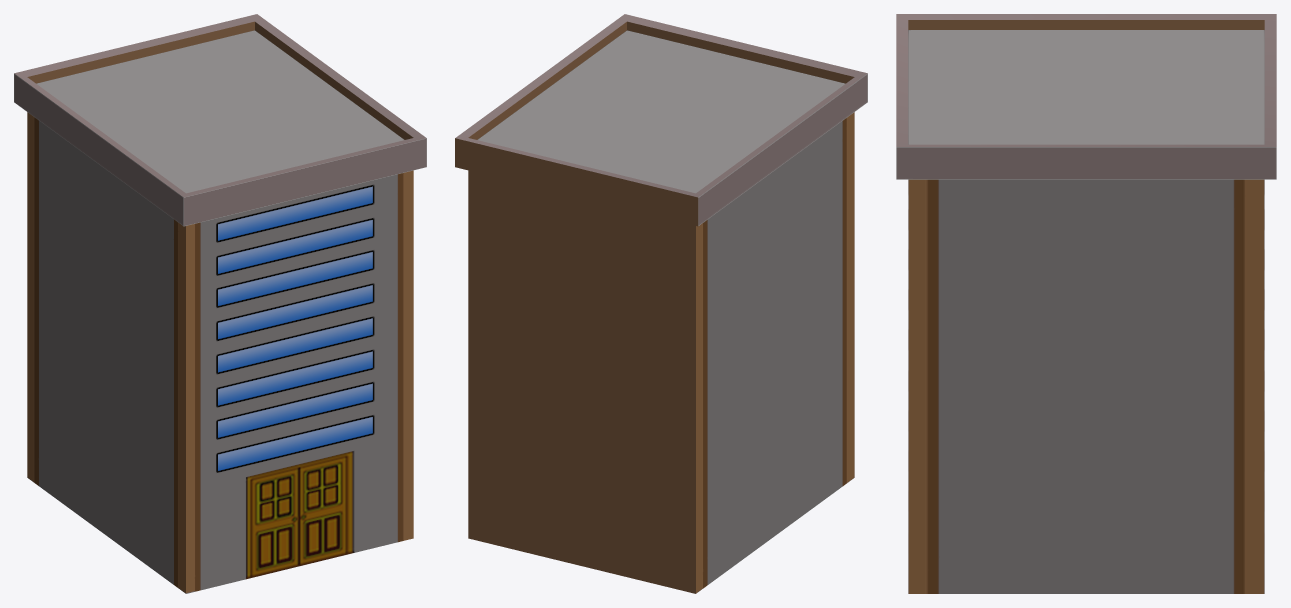
Rendered from Building3 another version.fbx.
3 renders of one model, left to right at view 1: azimuth 30°, elevation 25°; view 2: azimuth 150°, elevation 25°; view 3: azimuth 270°, elevation 25°, orthographic. The views are drawn at different scales.
Parts seen in each view (by area): view 1: Building_8; view 2: Building_8; view 3: Building_8.
Part boxes in pixels (box(x1,y1,x2,y2)): Building_8: box(14, 14, 426, 593); Building_8: box(455, 14, 867, 593); Building_8: box(896, 14, 1276, 593).
Size of the model in its own units: 738 by 1167 by 892.
1 material, 1 textured.
